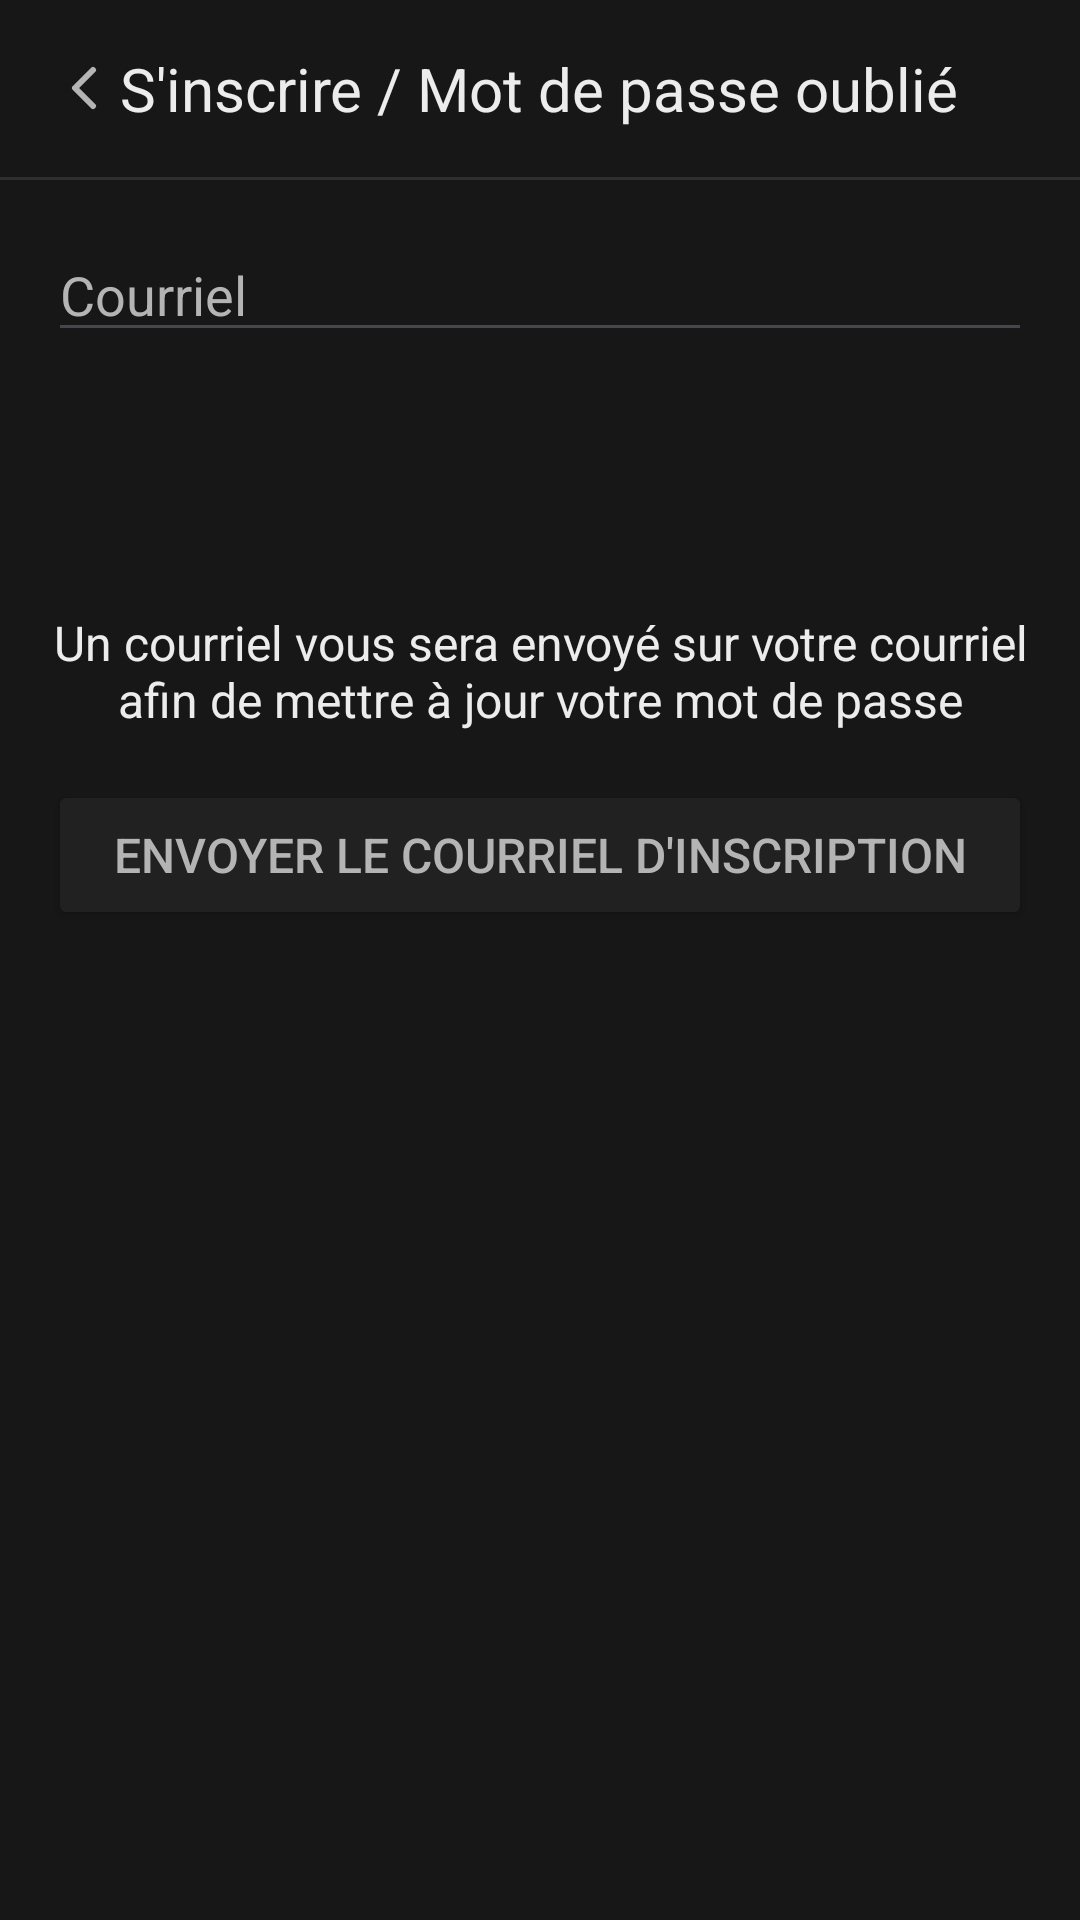

Named icons in this screenshot (1080px x 1920px) and their centers, (x=x, y=y):
Retour: (x=84, y=88)
